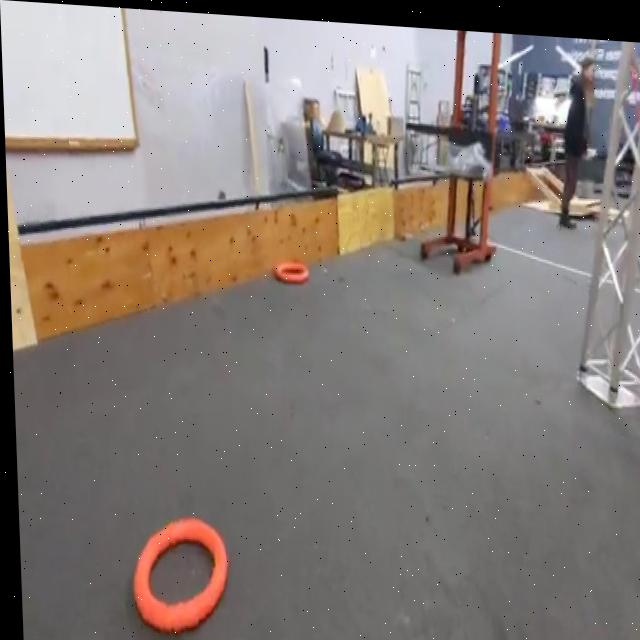note: (125, 517, 224, 631), (270, 254, 308, 282)
